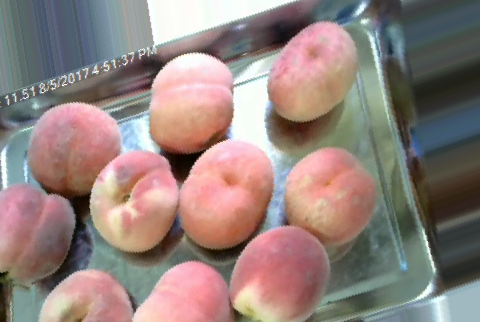Peach: (178, 139, 273, 247), (229, 222, 329, 322), (285, 144, 376, 248), (24, 102, 121, 197), (267, 19, 357, 121), (89, 151, 178, 249), (148, 49, 230, 151), (130, 258, 231, 321), (36, 272, 135, 322)
